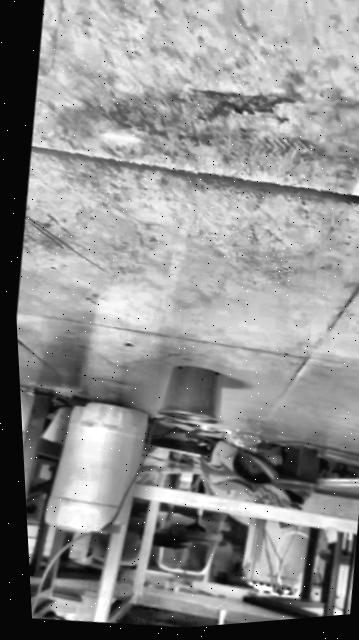pot: (149, 360, 229, 431)
